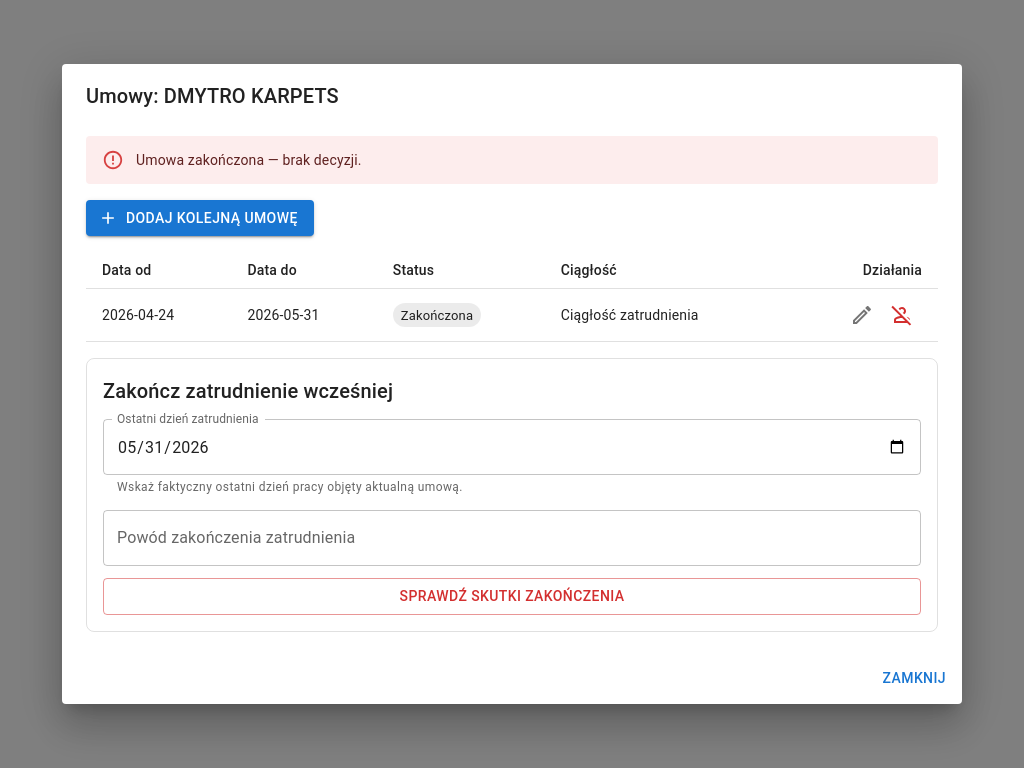
EmployeeContractsDialog canonical contract session › refreshes after a genuine concurrent change and shows a Polish conflict
Click the button "Dodaj kolejną umowę". click: (200, 218)
box: [86,200,314,236]
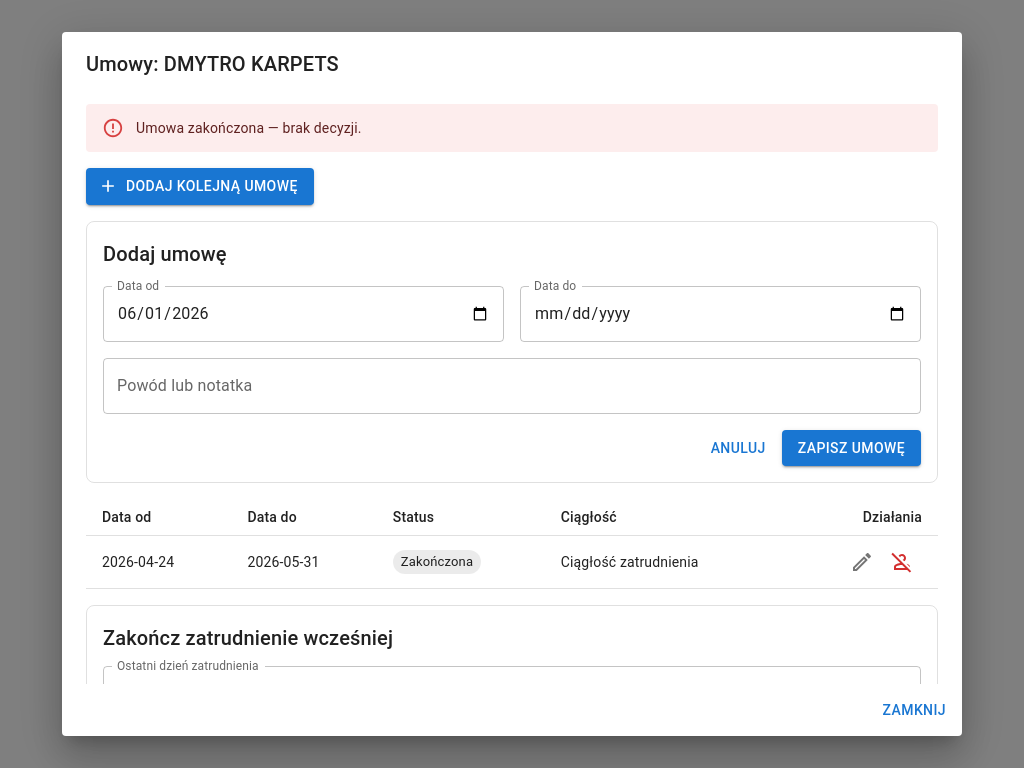
Type "2026-08-31" into the date field labelled "Data do". click: (720, 314)
box: [520,286,921,342]
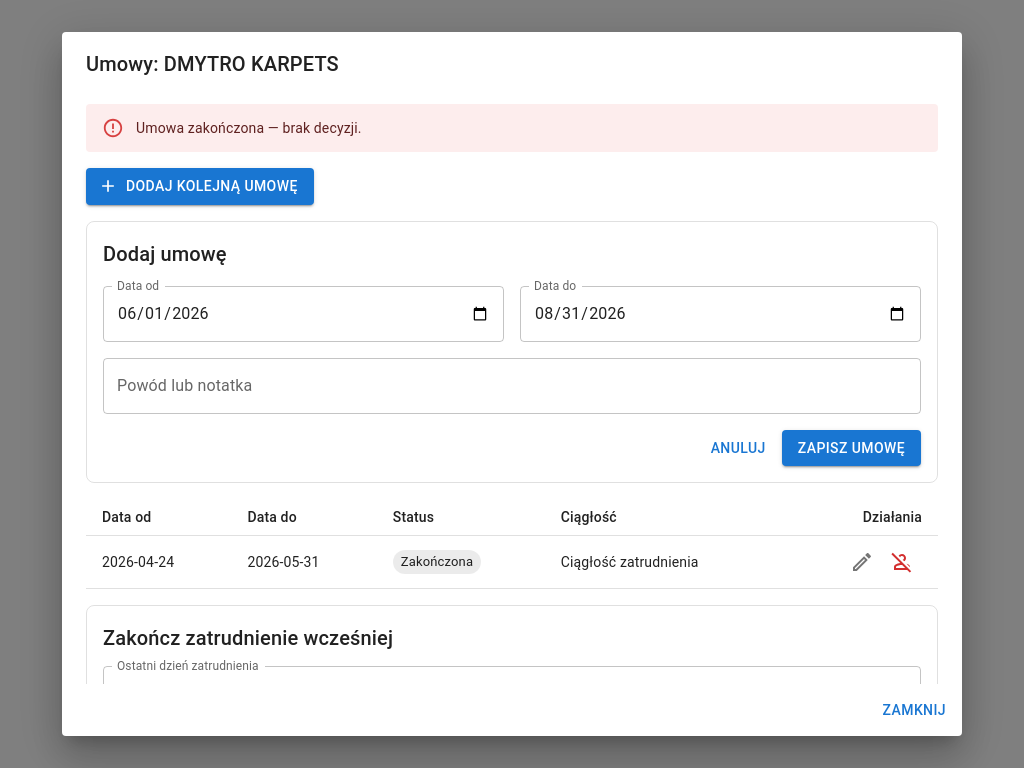
Click the button "Zapisz umowę". click: (851, 448)
box: [782,430,921,466]
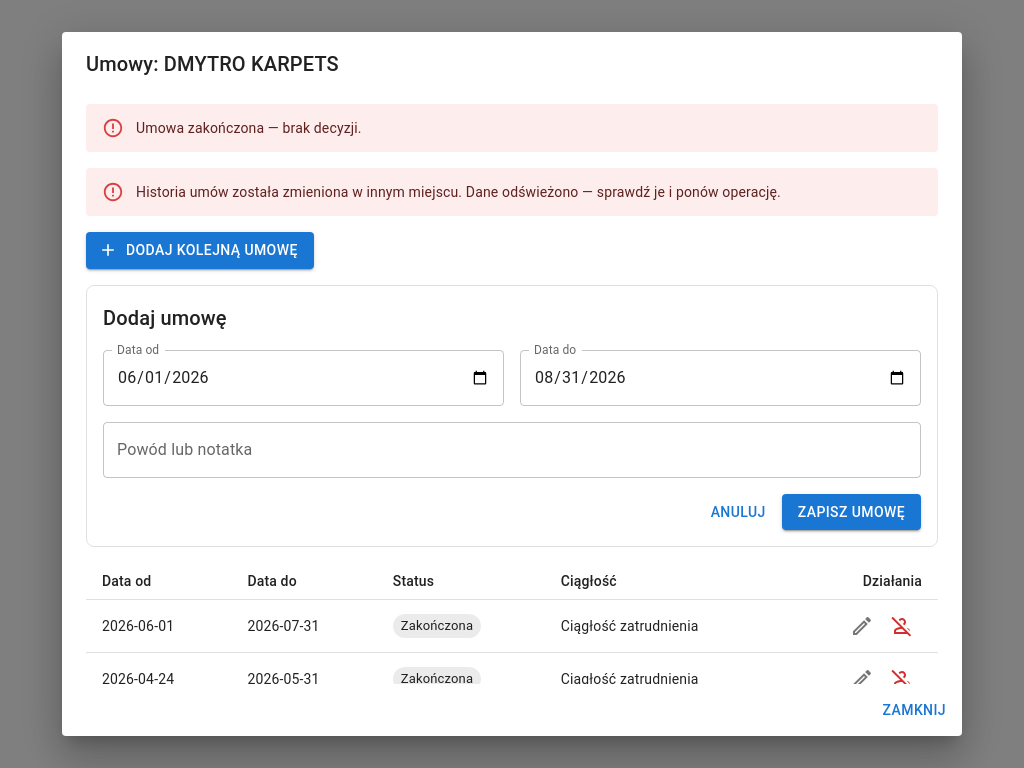
Expected: the text "Historia umów została zmieniona w innym miejscu. Dane odświeżono — sprawdź je i ponów operację." is shown, [136,184,781,200]
Expected: the text "2026-07-31" is shown, [231,600,377,652]
